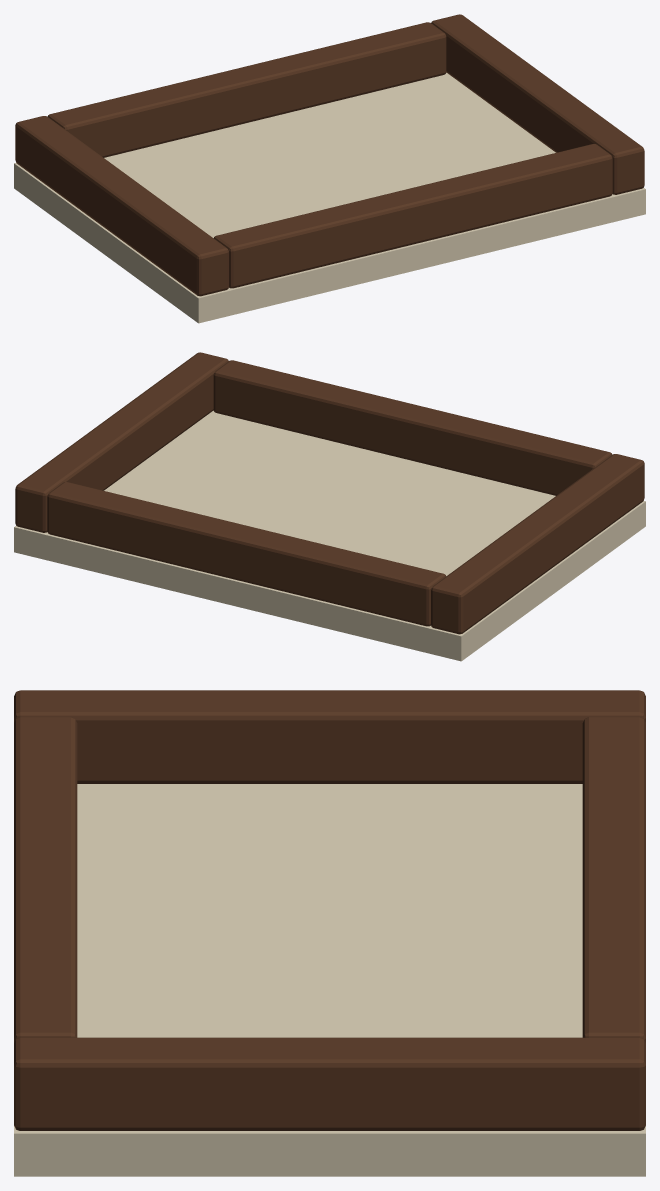
Rendered from kidnap-tray.glb.
3 renders of one model, top to bottom at view 1: azimuth 30°, elevation 25°; view 2: azimuth 150°, elevation 25°; view 3: azimuth 270°, elevation 25°, orthographic. The views are drawn at different scales.
Visible parts, largest first — view 1: Tray floor, Tray wall -y, Tray wall +y, Tray wall -x, Tray wall +x; view 2: Tray floor, Tray wall +y, Tray wall -y, Tray wall -x, Tray wall +x; view 3: Tray floor, Tray wall +x, Tray wall -x, Tray wall +y, Tray wall -y.
Boxes of the visible parts, x1,y1,x2,y2 form: Tray floor: [14, 72, 645, 323]; Tray wall -y: [213, 144, 612, 288]; Tray wall +y: [47, 22, 446, 157]; Tray wall -x: [15, 116, 228, 296]; Tray wall +x: [431, 14, 644, 194]; Tray floor: [14, 410, 645, 661]; Tray wall +y: [47, 482, 446, 626]; Tray wall -y: [213, 360, 612, 495]; Tray wall -x: [431, 454, 644, 634]; Tray wall +x: [15, 352, 228, 532]; Tray floor: [14, 784, 645, 1176]; Tray wall +x: [14, 1037, 645, 1130]; Tray wall -x: [14, 690, 645, 783]; Tray wall +y: [582, 717, 645, 1042]; Tray wall -y: [14, 717, 77, 1042].
Bounding box in the file's own units: 0.112 × 0.016 × 0.08.
